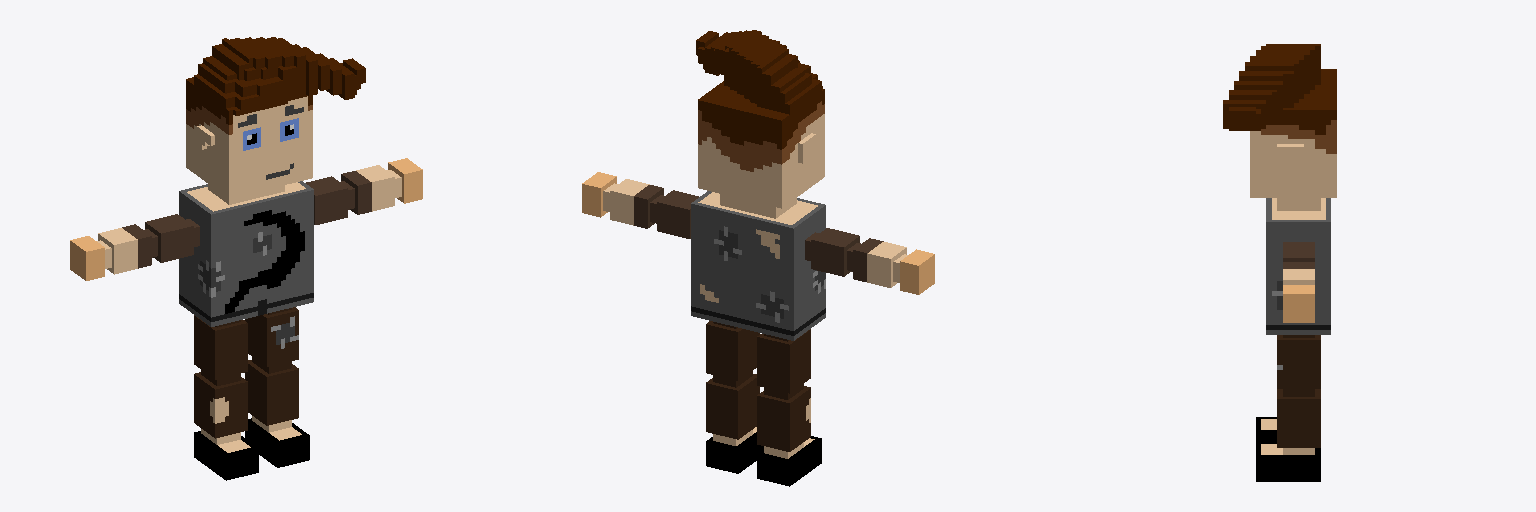
3 views of the same model, side by side, from view 1: azimuth 30°, elevation 25°; view 2: azimuth 150°, elevation 25°; view 3: azimuth 270°, elevation 25° (orthographic).
Parts seen in each view (by area): view 1: object 1; view 2: object 1; view 3: object 1.
Part boxes in pixels (bbox=[...]): object 1: bbox=[70, 37, 422, 480]; object 1: bbox=[582, 30, 934, 486]; object 1: bbox=[1223, 44, 1336, 481].
Bounding box in the file's own units: 7.2 × 8.4 × 2.1.
Materials: 1 (1 with a texture image).